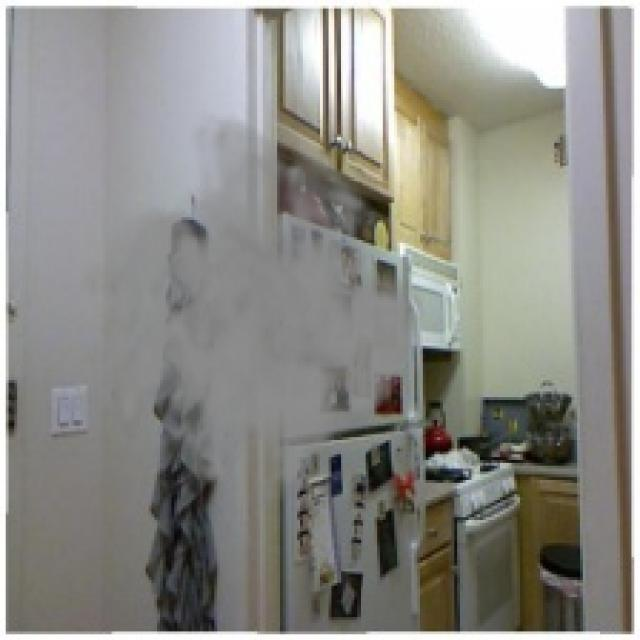smoke: (77, 108, 426, 526)
